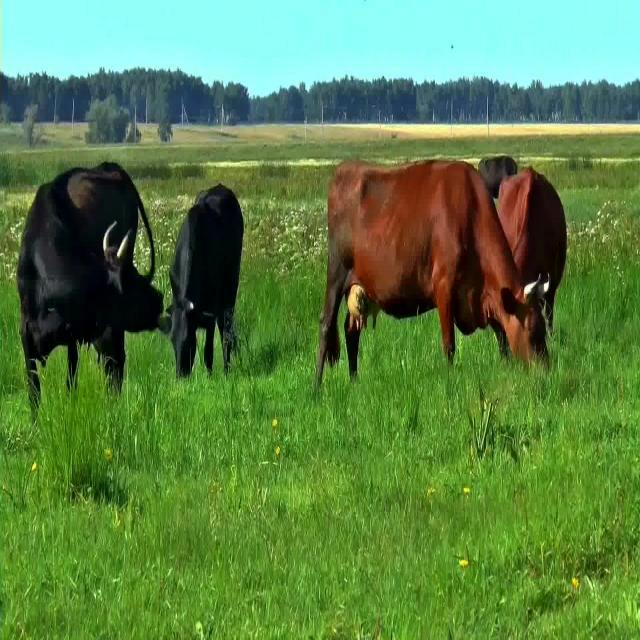COW: (316, 161, 546, 386), (18, 162, 162, 416), (170, 184, 244, 377), (498, 168, 566, 328)
